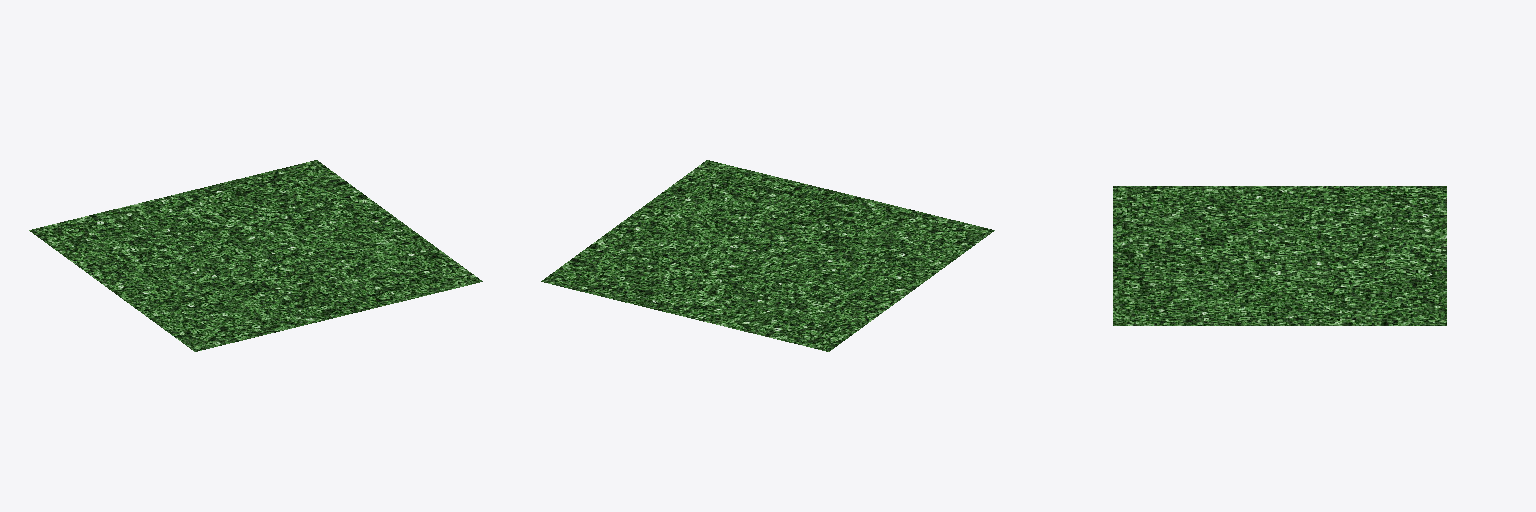
3 renders of one model, left to right at view 1: azimuth 30°, elevation 25°; view 2: azimuth 150°, elevation 25°; view 3: azimuth 270°, elevation 25°, orthographic.
Size of the model in its own units: 2 by 0 by 2.
Materials: 1 (1 with a texture image).